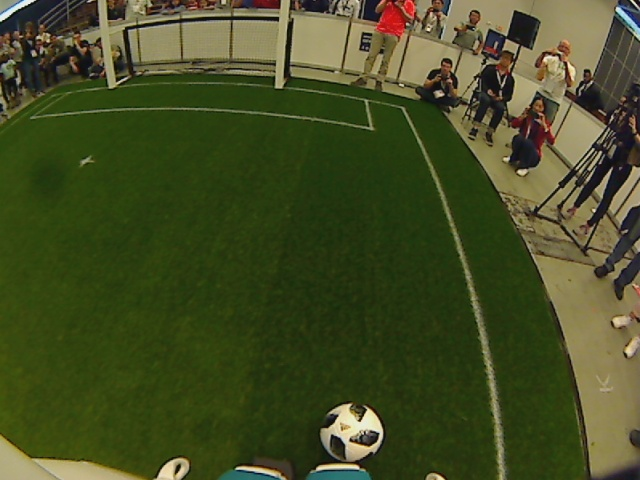ball: (317, 400, 386, 464)
